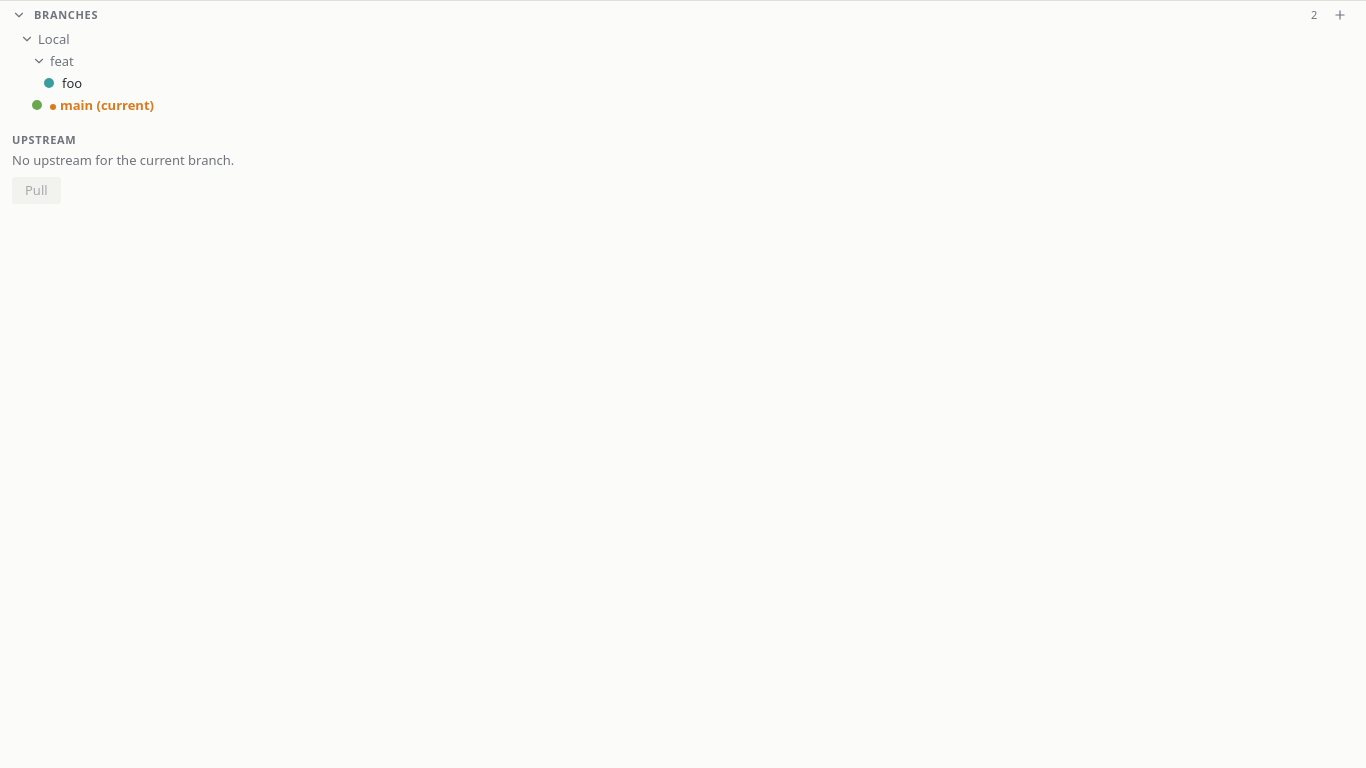
BranchTree — local branches › Cancel in the force-delete dialog dismisses it without deleting, leaving Delete in place
Right-click the button "foo" at x=63, y=83, box [44,74,82,92]
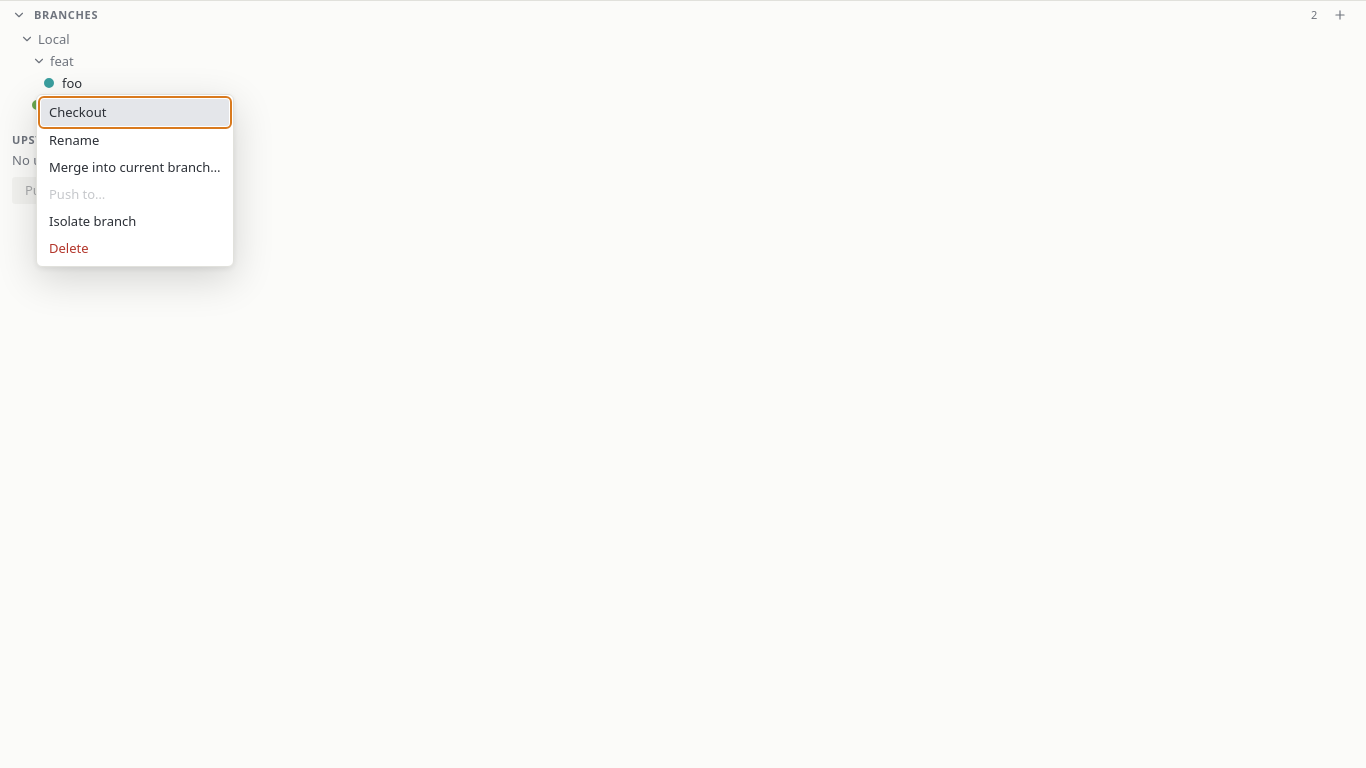
Click the menu item "Delete". click: x=135, y=248
box: [41,235,229,262]
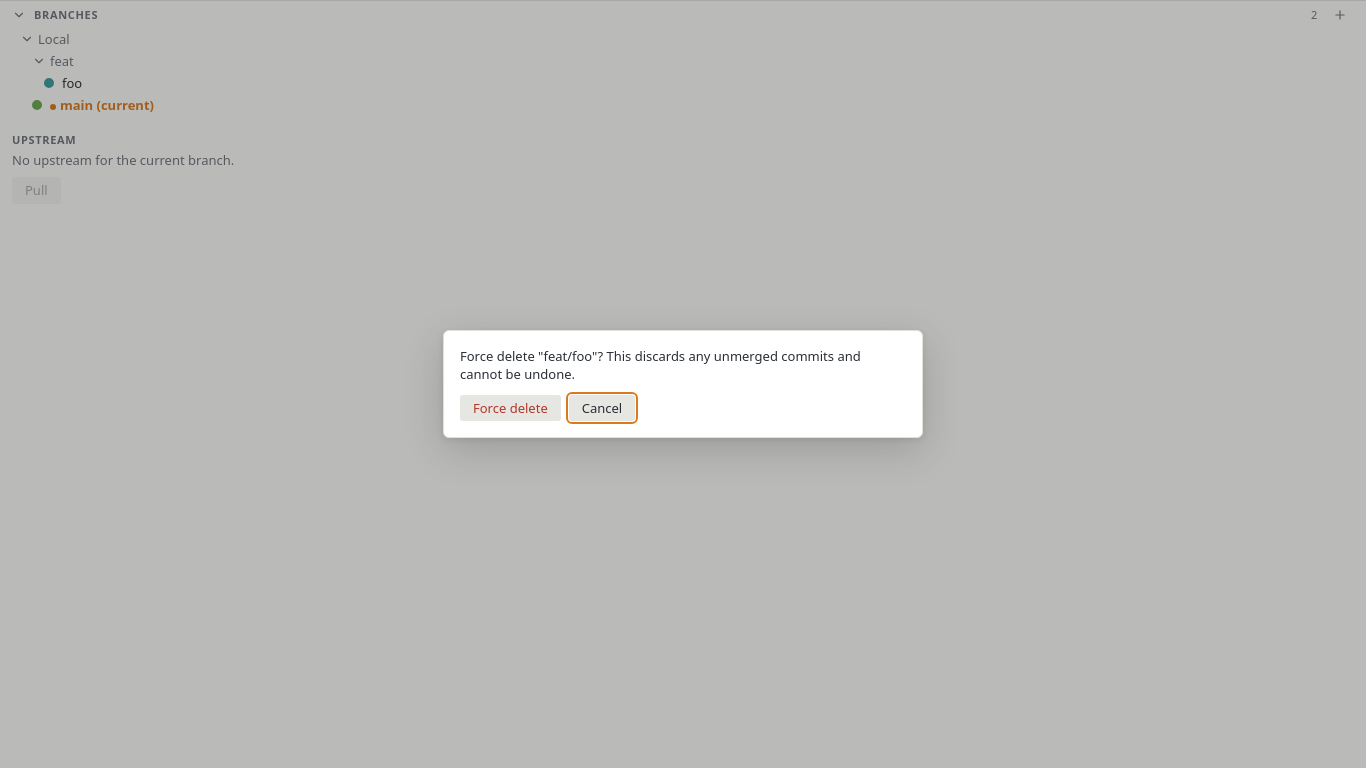
Click the button "Cancel". click: x=602, y=408
box: [569,395,635,421]
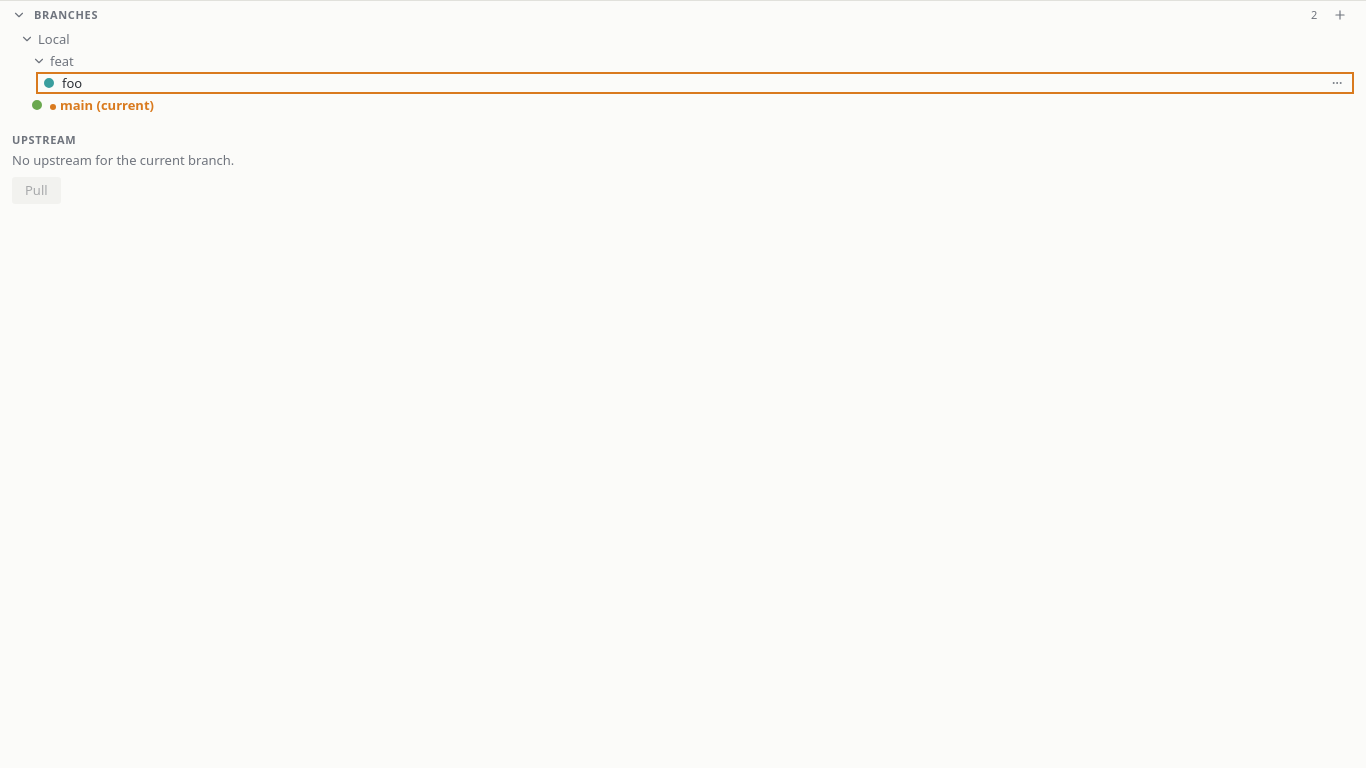
Right-click the button "foo" at x=72, y=83, box [36,72,1354,94]
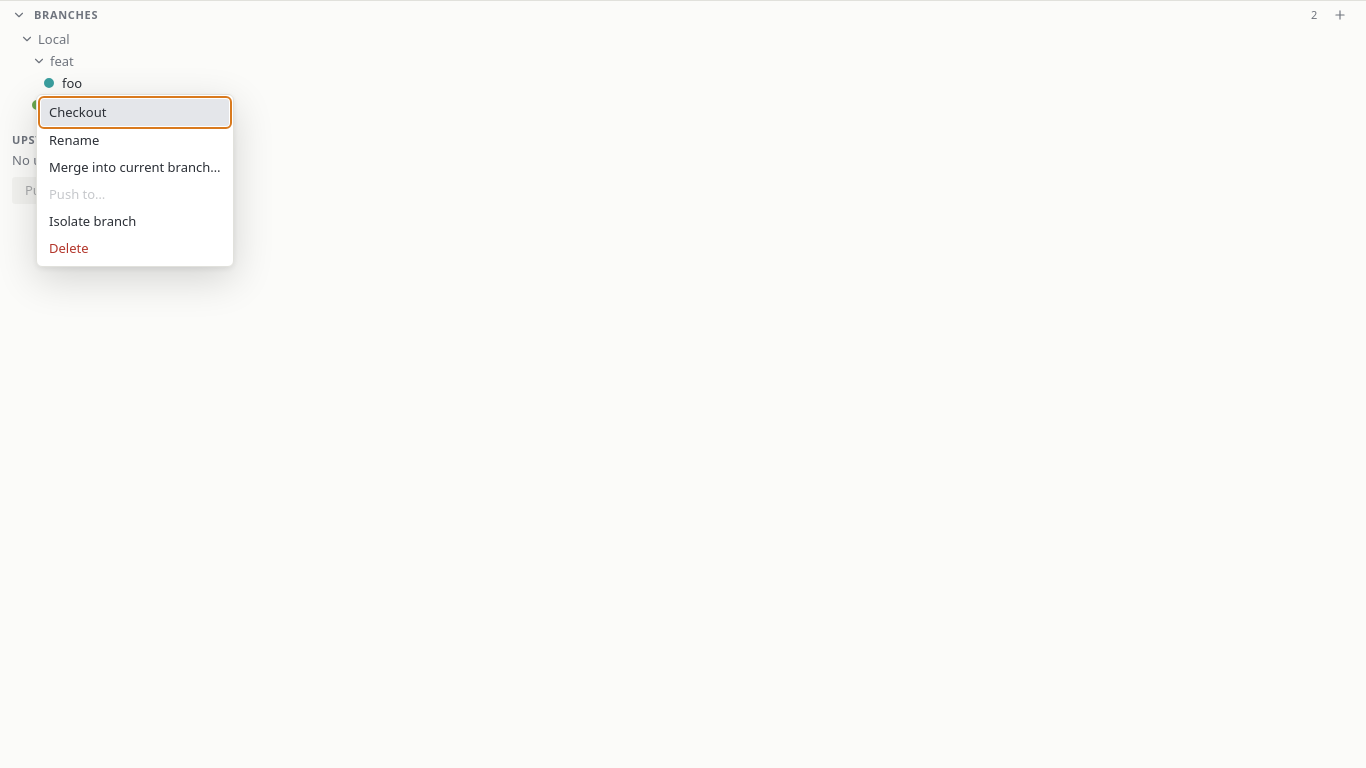
Expected: the menu item "Delete" is shown, [41,235,229,262]
